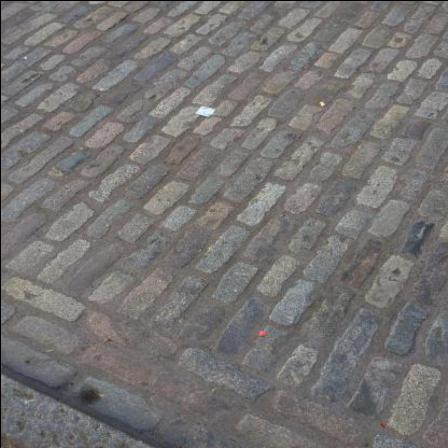Plastic bag - wrapper: (195, 107, 216, 118)
